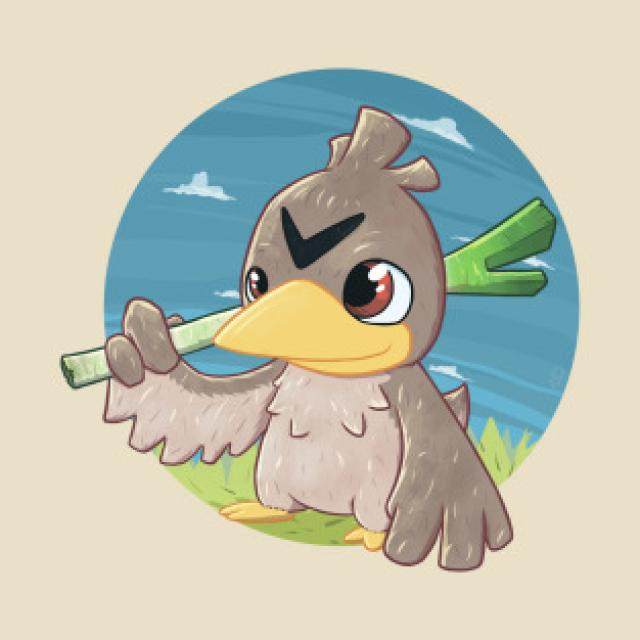Farfetchd: (110, 109, 514, 569)
